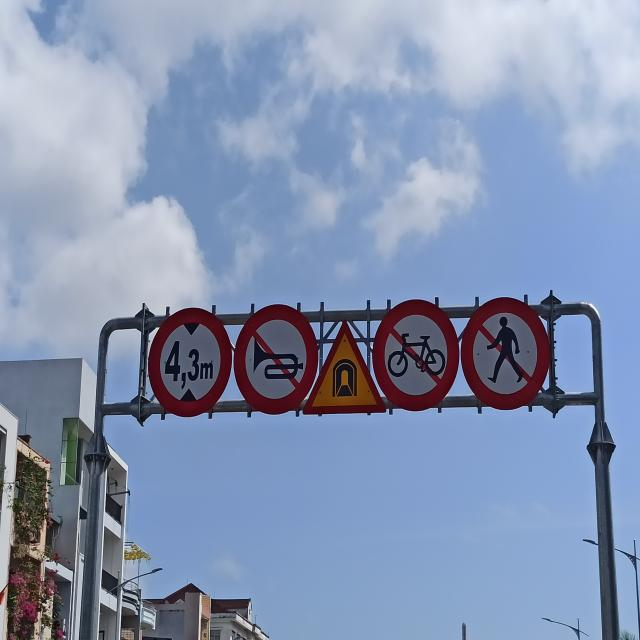bien_cam: (461, 298, 551, 409), (373, 300, 458, 410), (234, 301, 315, 411), (148, 308, 230, 416)
bien_nguy_hiem: (304, 323, 389, 414)
